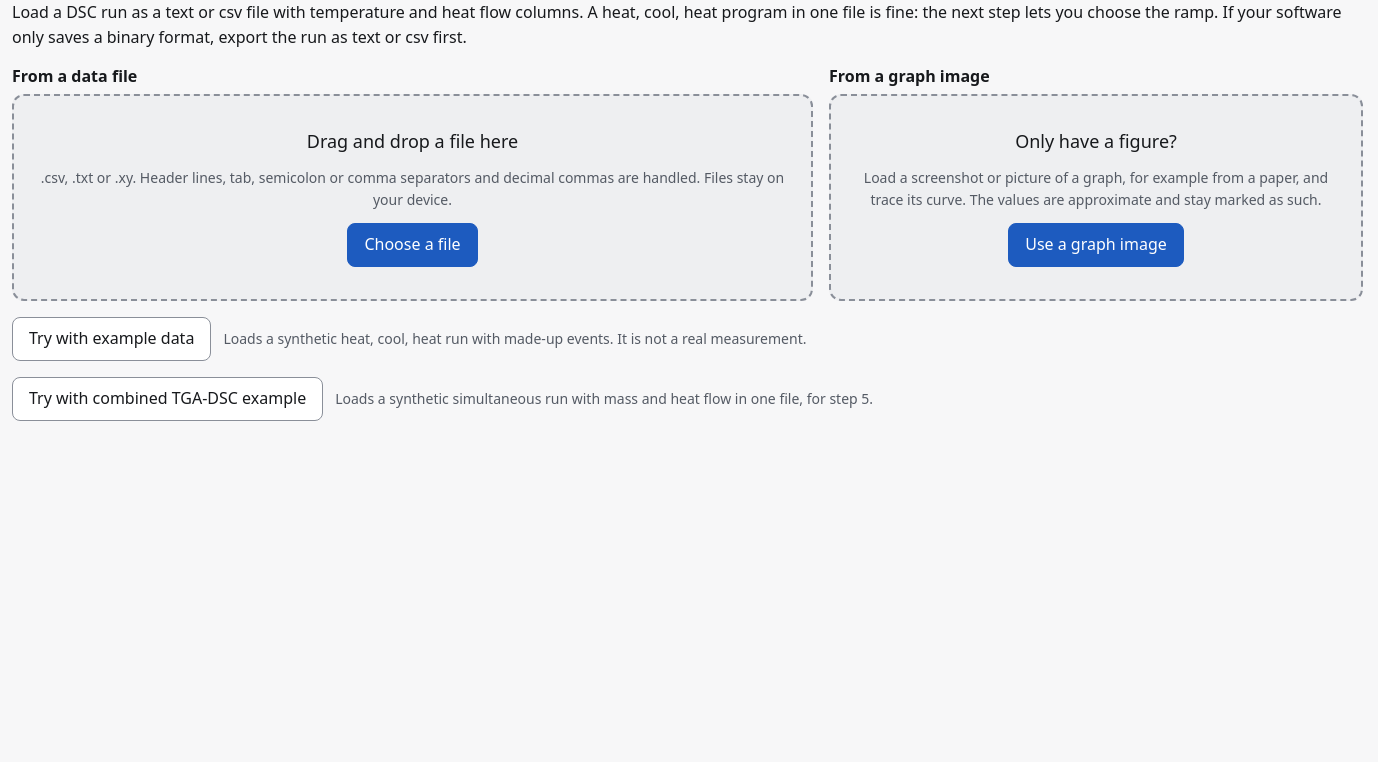
Scenario: DSC upload step › loads the example, and refuses to go on until the exo direction is chosen
Step 1. Click the button "Try with example data" → (112, 339), box [12, 317, 211, 361]
(page scrolled)
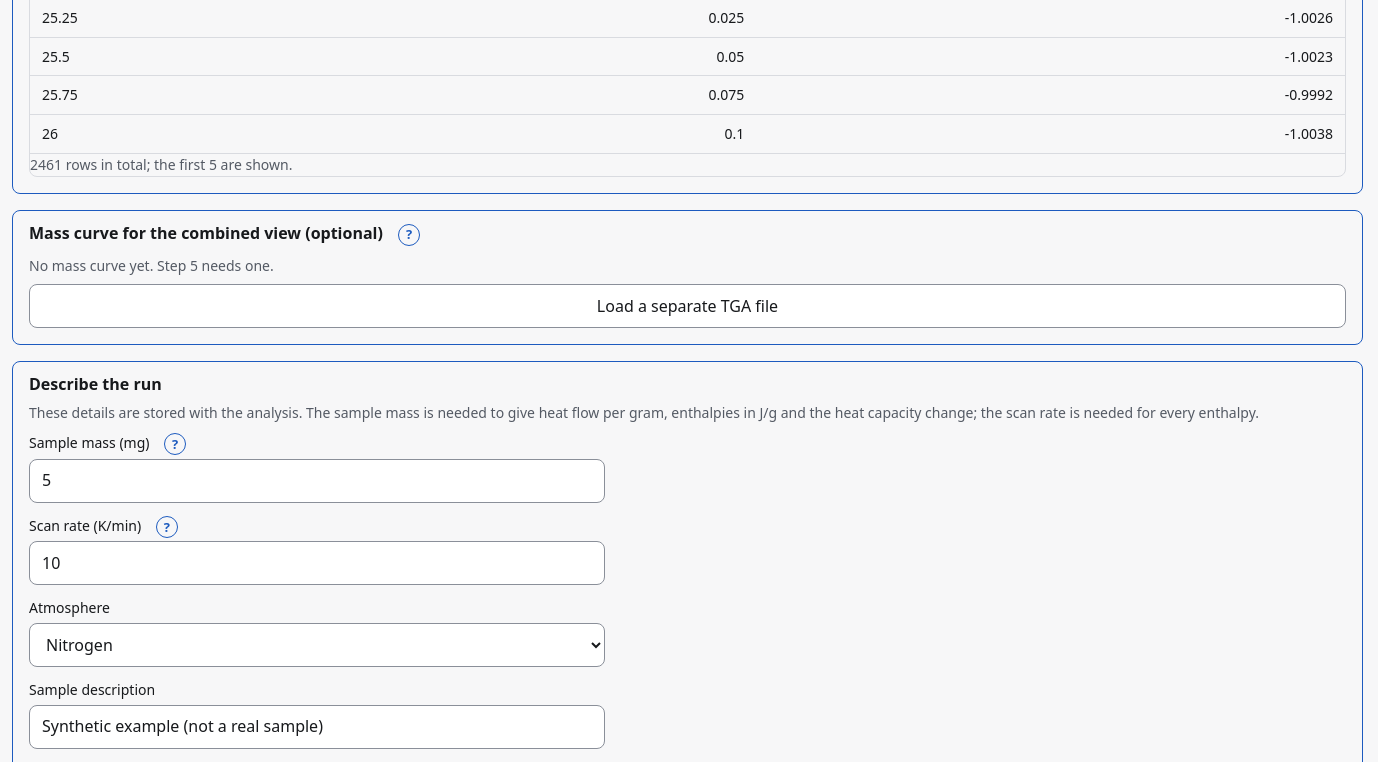
Check: the heading "Describe the run" is shown, box [29, 373, 162, 395]
